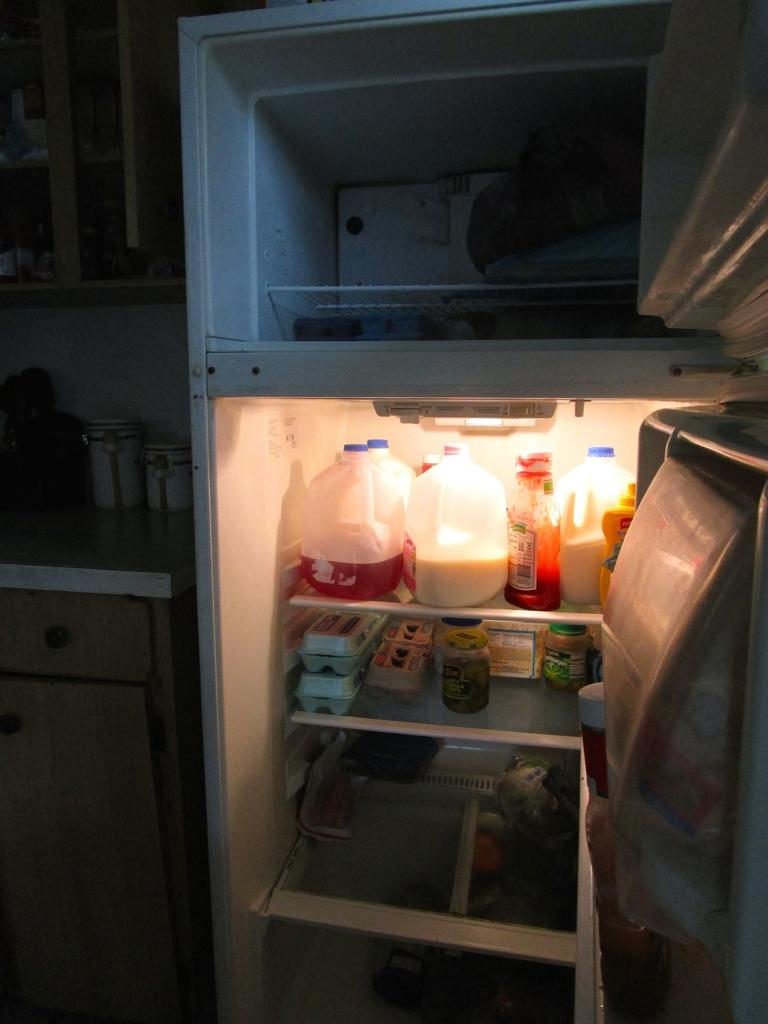cabinet_door: (3, 686, 159, 978), (13, 599, 150, 670)
handle: (41, 628, 69, 656), (1, 703, 18, 741)
